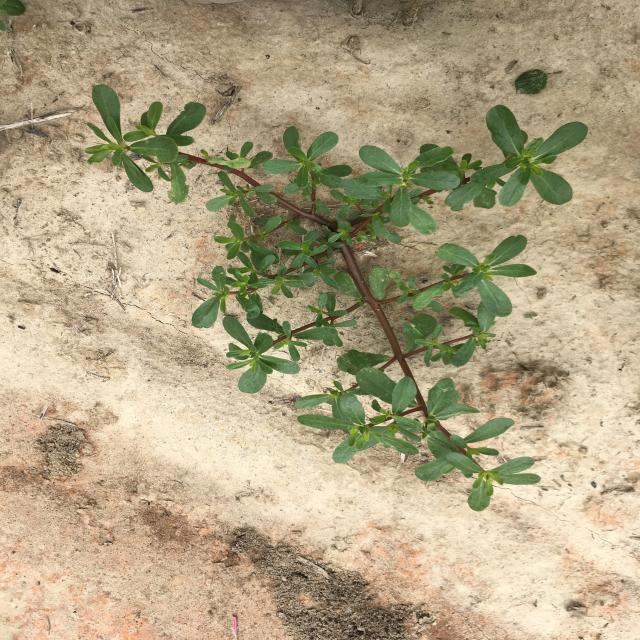Purslane: (84, 84, 588, 512)
